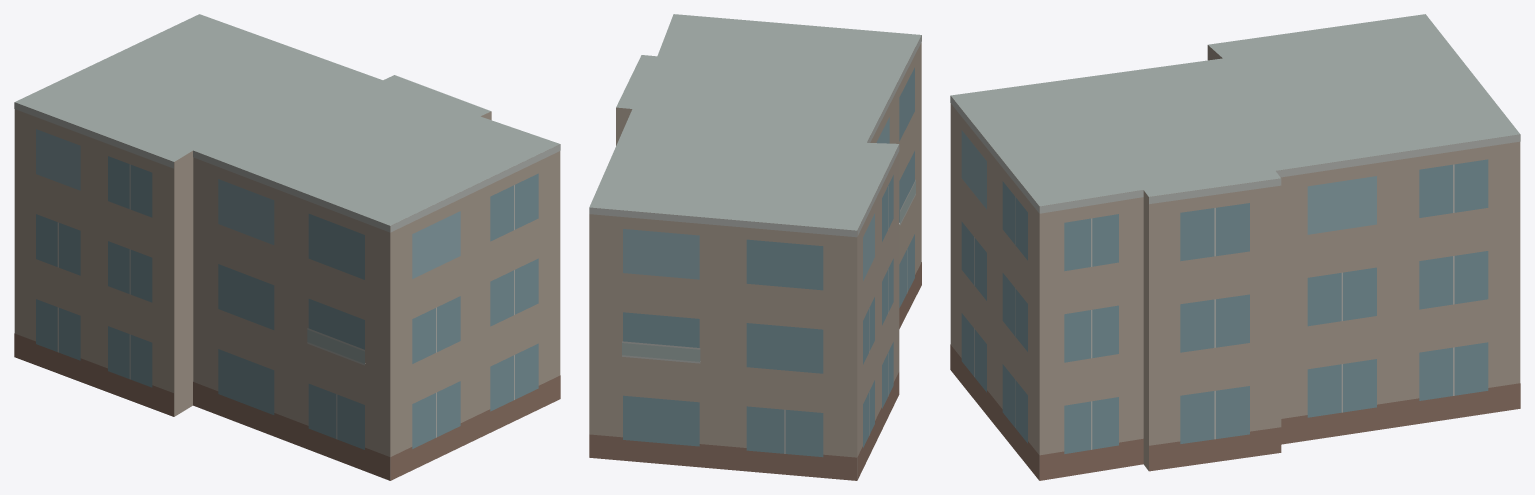
Rendered from survey-upis-32675596.glb.
3 views of the same model, side by side, from view 1: azimuth 30°, elevation 25°; view 2: azimuth 150°, elevation 25°; view 3: azimuth 270°, elevation 25° (orthographic). The views are drawn at different scales.
Visible parts, largest first — view 1: survey-upis-32675596.tmp; view 2: survey-upis-32675596.tmp; view 3: survey-upis-32675596.tmp.
Boxes of the visible parts, x1,y1,x2,y2 form: survey-upis-32675596.tmp: (14, 14, 560, 480); survey-upis-32675596.tmp: (589, 14, 921, 480); survey-upis-32675596.tmp: (950, 14, 1520, 480).
Bounding box in the file's own units: 13.77 × 9.15 × 17.23.
